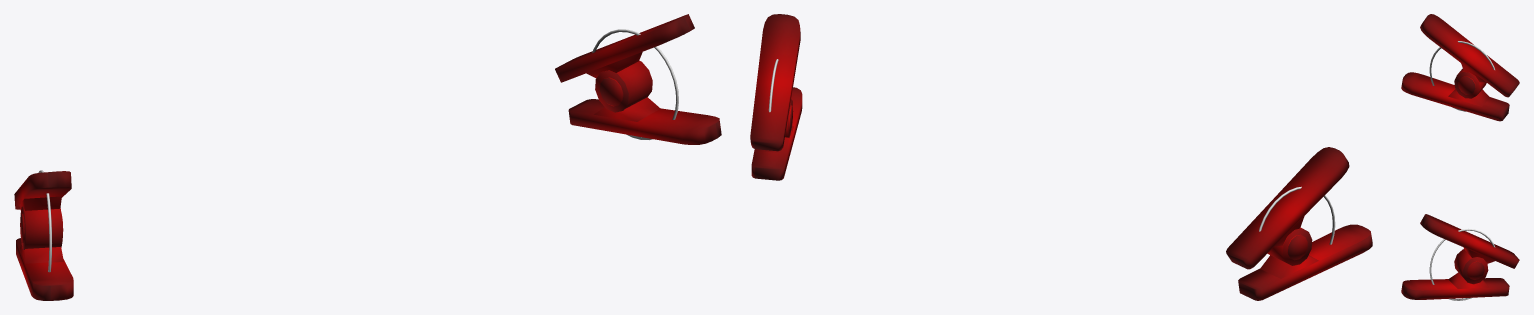
File: Nipple-Clamps.fbx
The picture shows the model from 3 angles, left to right: view 1: azimuth 30°, elevation 25°; view 2: azimuth 150°, elevation 25°; view 3: azimuth 270°, elevation 25°; orthographic projection. The views are drawn at different scales.
Visible parts, largest first — view 1: カスタム少女_mesh; view 2: カスタム少女_mesh; view 3: カスタム少女_mesh.
Boxes of the visible parts, x1,y1,x2,y2 form: カスタム少女_mesh: (14,14,721,300); カスタム少女_mesh: (750,14,1372,300); カスタム少女_mesh: (1401,14,1519,300).
Bounding box in the file's own units: 19.41 × 3.69 × 4.46.
2 materials, 2 textured.
